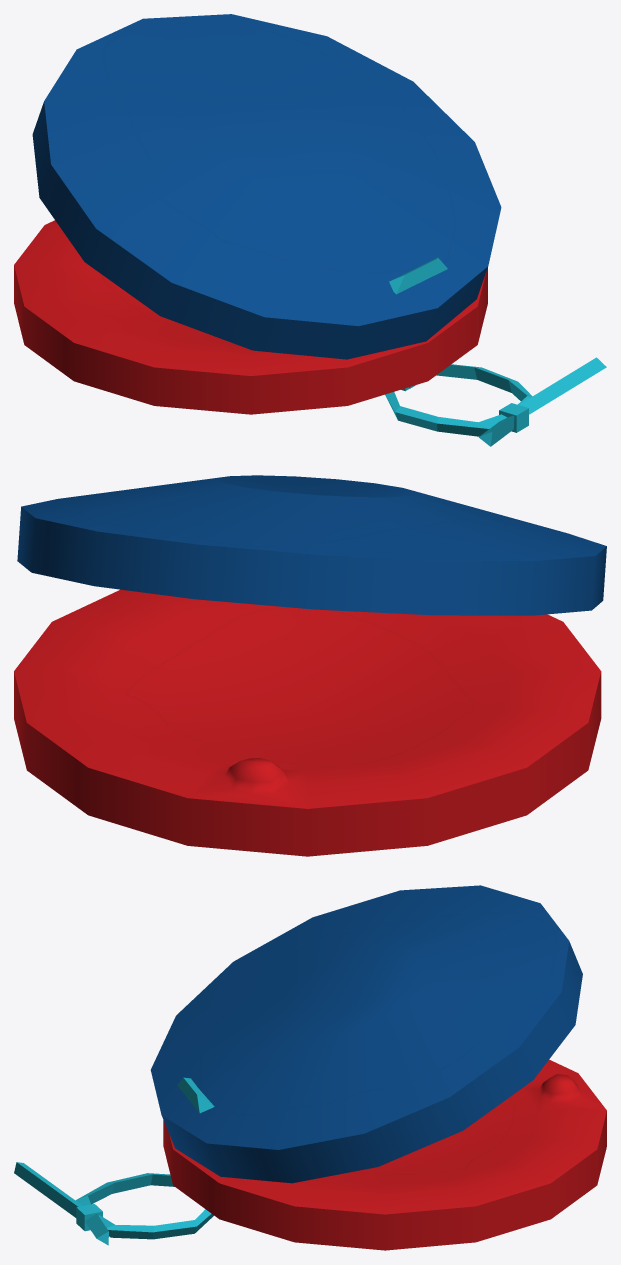
Rendered from Castanets.fbx.
3 views of the same model, one above another, from view 1: azimuth 30°, elevation 25°; view 2: azimuth 150°, elevation 25°; view 3: azimuth 270°, elevation 25° (orthographic). The views are drawn at different scales.
Visible parts, largest first — view 1: Castanets; view 2: Castanets; view 3: Castanets.
Boxes of the visible parts, box(x1,y1,x2,y2) form: Castanets: box(14, 14, 606, 446); Castanets: box(14, 475, 606, 856); Castanets: box(14, 885, 606, 1250).
Size of the model in its own units: 80.37 by 47.65 by 106.
Materials: 1 (1 with a texture image).
